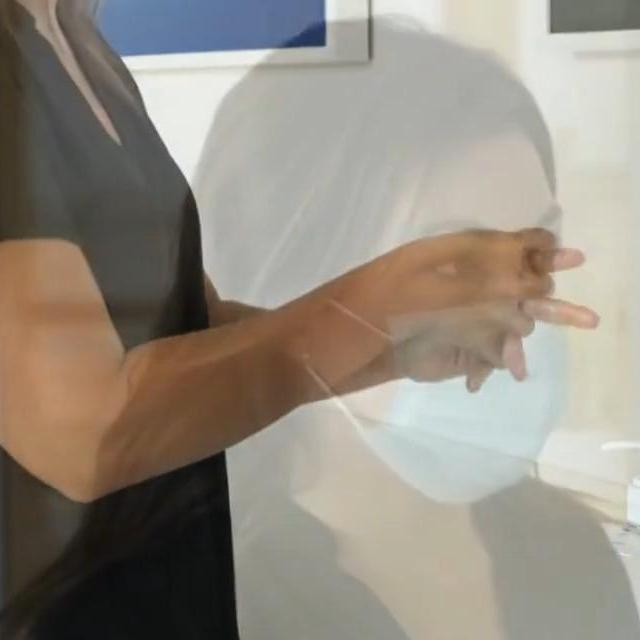Mask: (345, 310, 576, 515)
NO-Hardhat: (235, 23, 545, 196)
NO-Safety Vest: (0, 0, 239, 640), (161, 500, 640, 640)
Person: (71, 26, 640, 640), (0, 0, 252, 640)
